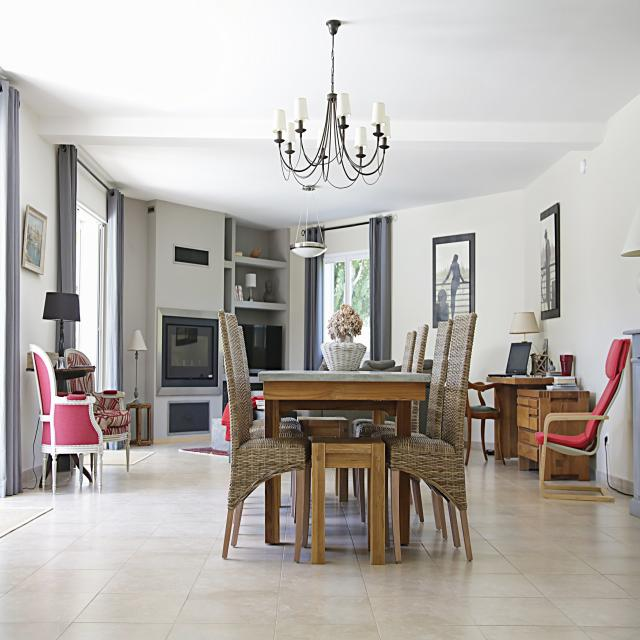floor: (0, 440, 640, 640), (543, 486, 604, 496)
wall: (524, 93, 640, 495), (319, 189, 525, 385), (153, 199, 225, 443), (19, 98, 62, 484), (123, 197, 148, 409), (144, 212, 156, 443), (540, 202, 560, 320), (76, 161, 108, 223), (290, 250, 305, 370), (22, 204, 47, 275), (168, 400, 210, 435), (235, 266, 269, 302), (235, 225, 268, 260), (268, 310, 287, 370), (173, 244, 210, 268), (269, 268, 288, 304), (268, 228, 288, 262), (235, 308, 268, 325), (470, 418, 483, 451), (484, 419, 495, 451), (481, 387, 495, 409), (468, 388, 481, 405), (296, 225, 306, 243), (290, 227, 298, 245), (464, 417, 468, 448), (148, 199, 156, 213), (307, 224, 319, 228)
